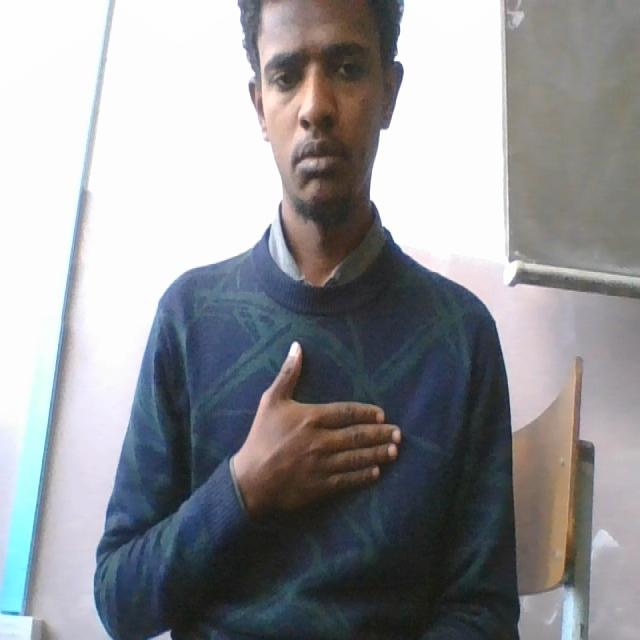yene: (233, 335, 411, 509)
